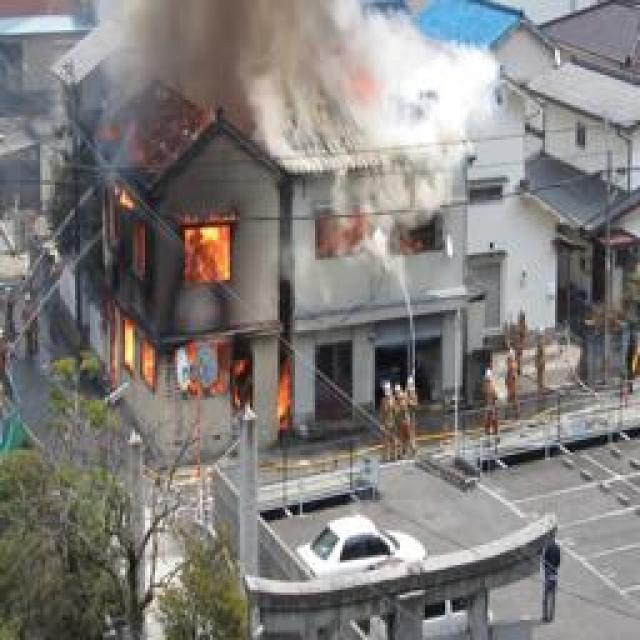Fire: (98, 188, 306, 450)
